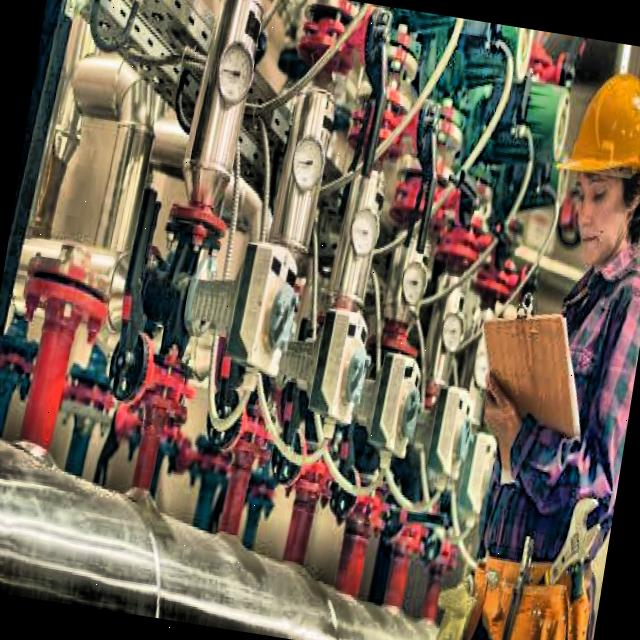helmet: (541, 49, 640, 287)
